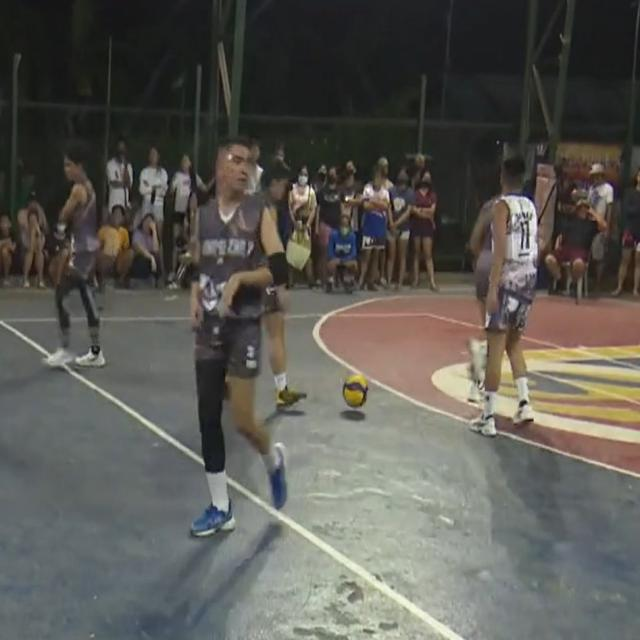volleyball: (342, 374, 368, 408)
